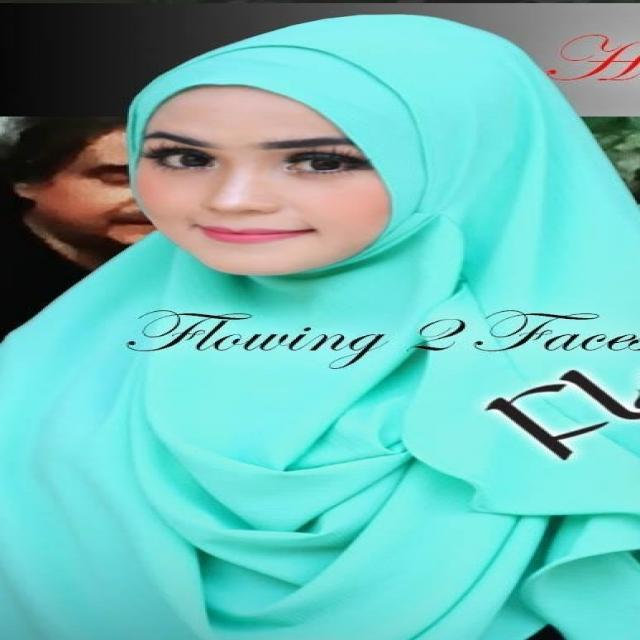head: (118, 20, 610, 282)
